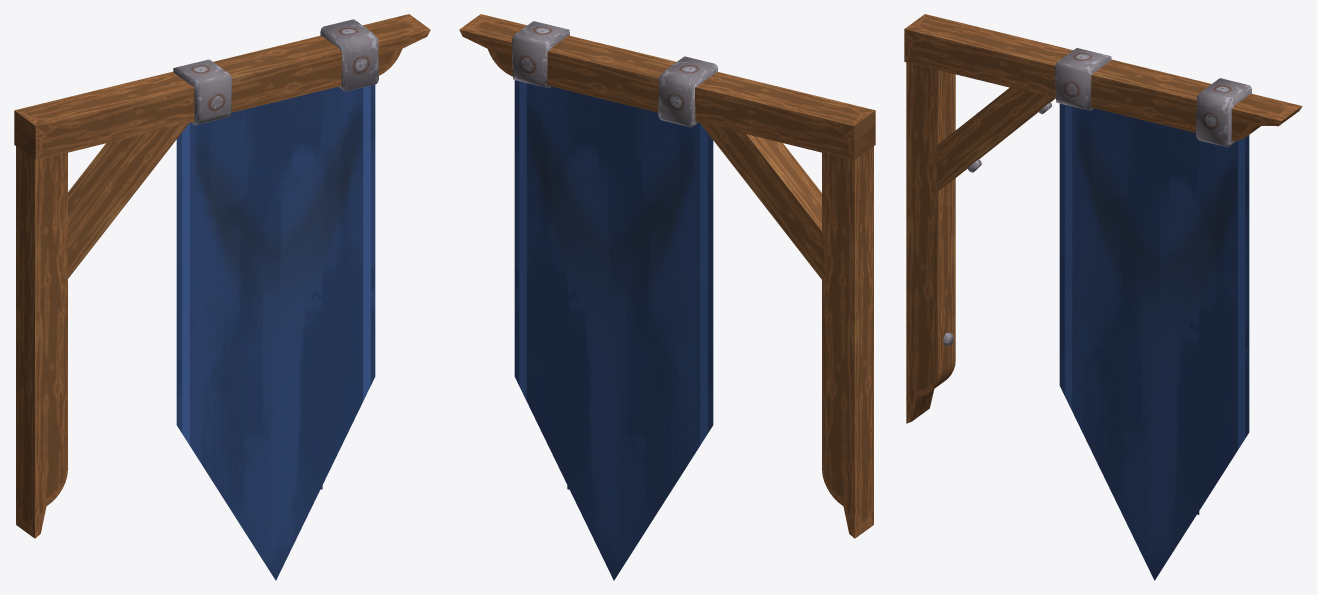
Rendered from Banner_2.gltf.
3 renders of one model, left to right at view 1: azimuth 30°, elevation 25°; view 2: azimuth 150°, elevation 25°; view 3: azimuth 330°, elevation 25°, orthographic. The views are drawn at different scales.
Visible parts, largest first — view 1: Banner_2; view 2: Banner_2; view 3: Banner_2.
Part boxes in pixels (bbox=[...]): Banner_2: bbox=[14, 14, 430, 580]; Banner_2: bbox=[459, 14, 875, 580]; Banner_2: bbox=[904, 14, 1302, 580].
Size of the model in its own units: 1.61 by 2.08 by 0.1906.
3 materials, 3 textured.
